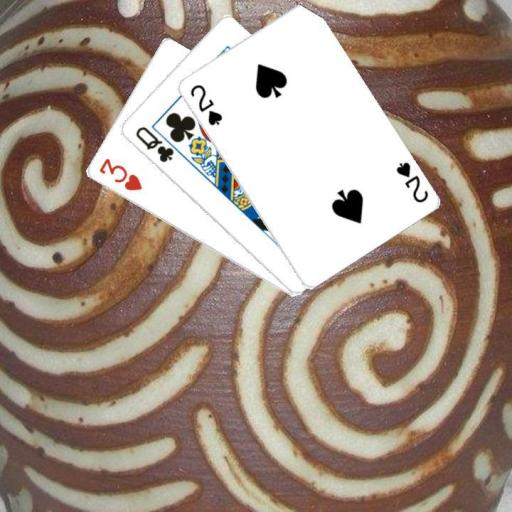2S: (186, 81, 224, 127), (392, 159, 429, 205)
3H: (95, 155, 144, 193)
QC: (132, 123, 176, 164)
